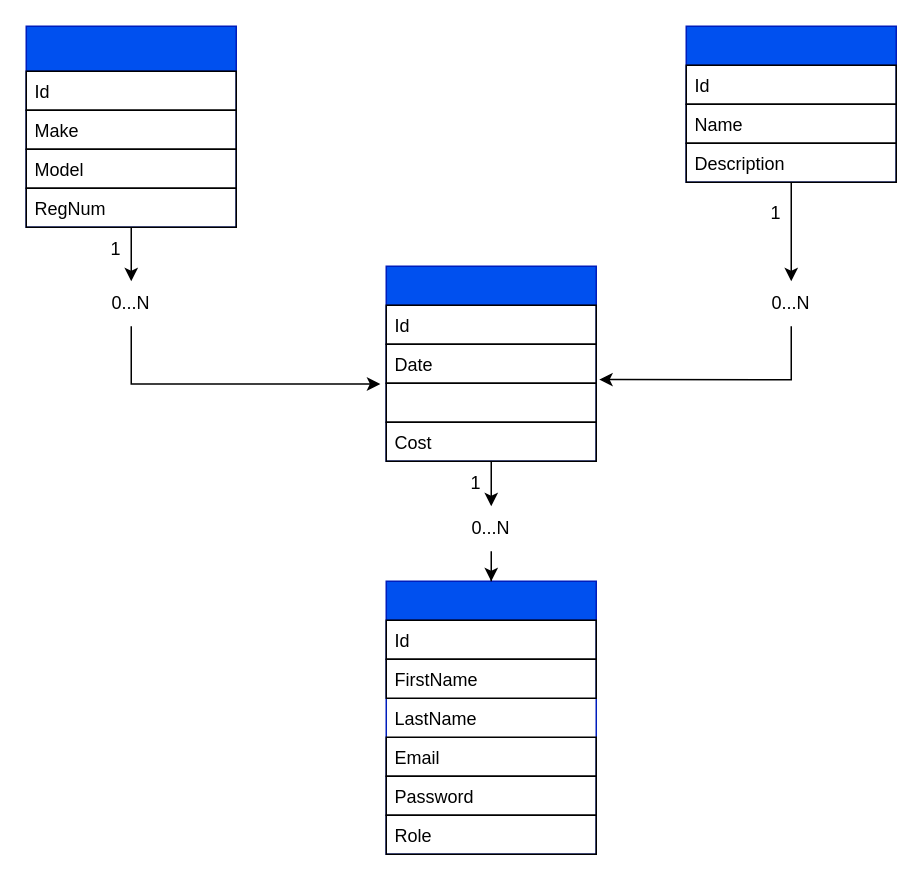
Image size: 923x885. Some labels were removed from this diagram. The shapes that lost their labels are listed below. From the top down, each one's box as (x1, y1, x2, y2) in pixels, then its label:
(685, 25, 896, 182): Operation Type
(25, 25, 236, 227): Car
(385, 265, 596, 461): Operation
(385, 382, 596, 422): Status
(385, 580, 596, 854): Employee
